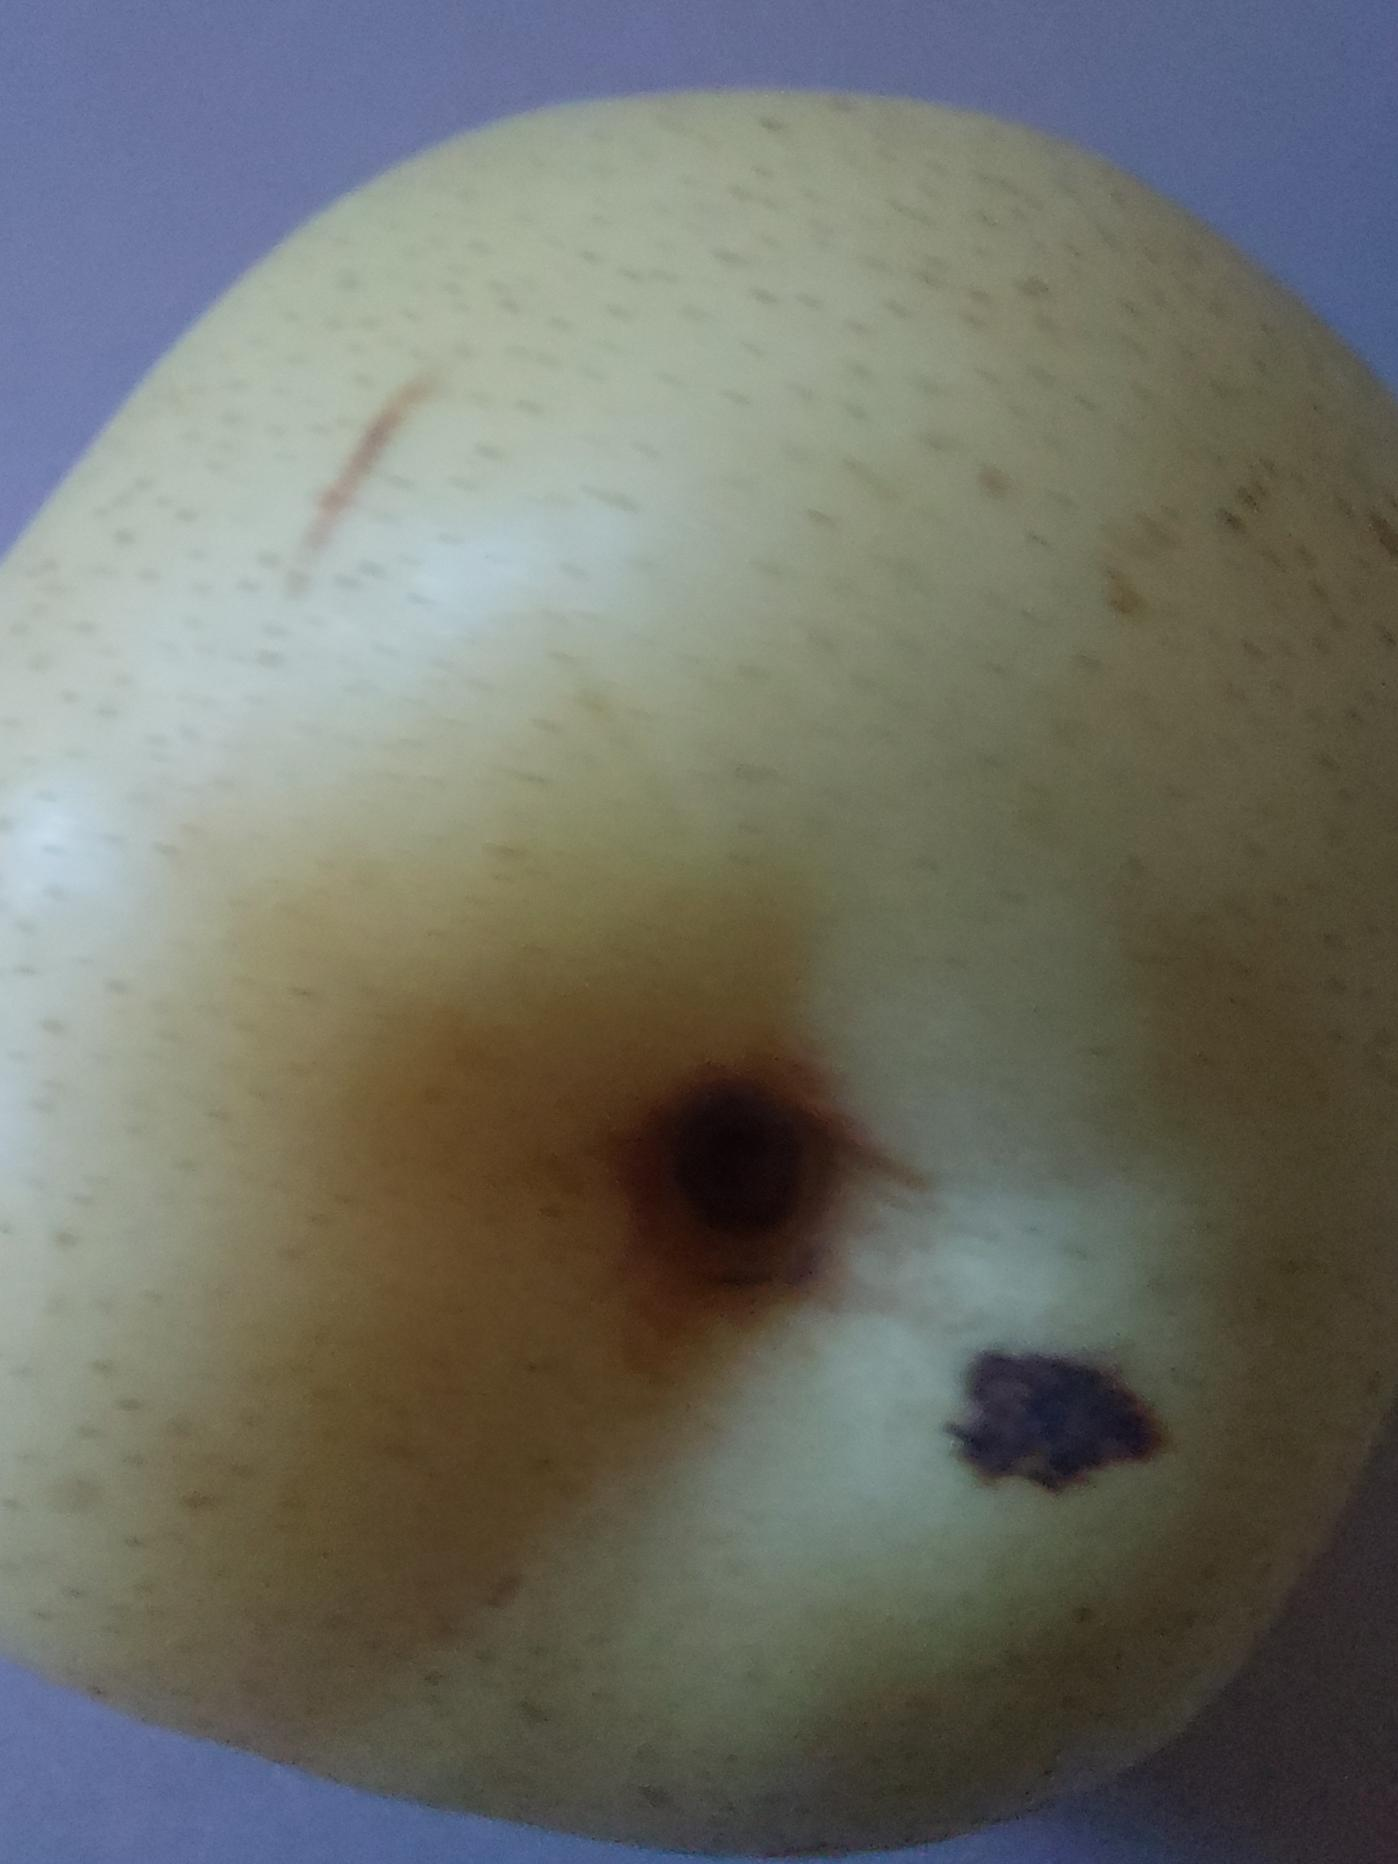Good Pear: (0, 69, 1398, 1864)
